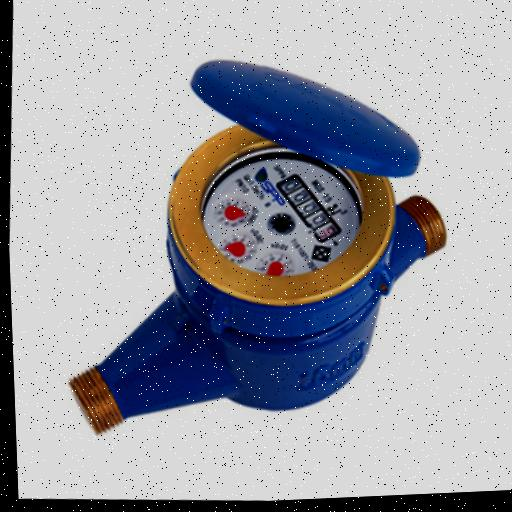0: (294, 191, 324, 221), (286, 183, 314, 209), (304, 208, 332, 233), (279, 173, 305, 197)
6: (311, 217, 340, 245)
border_water_meter_number: (271, 166, 346, 249)
